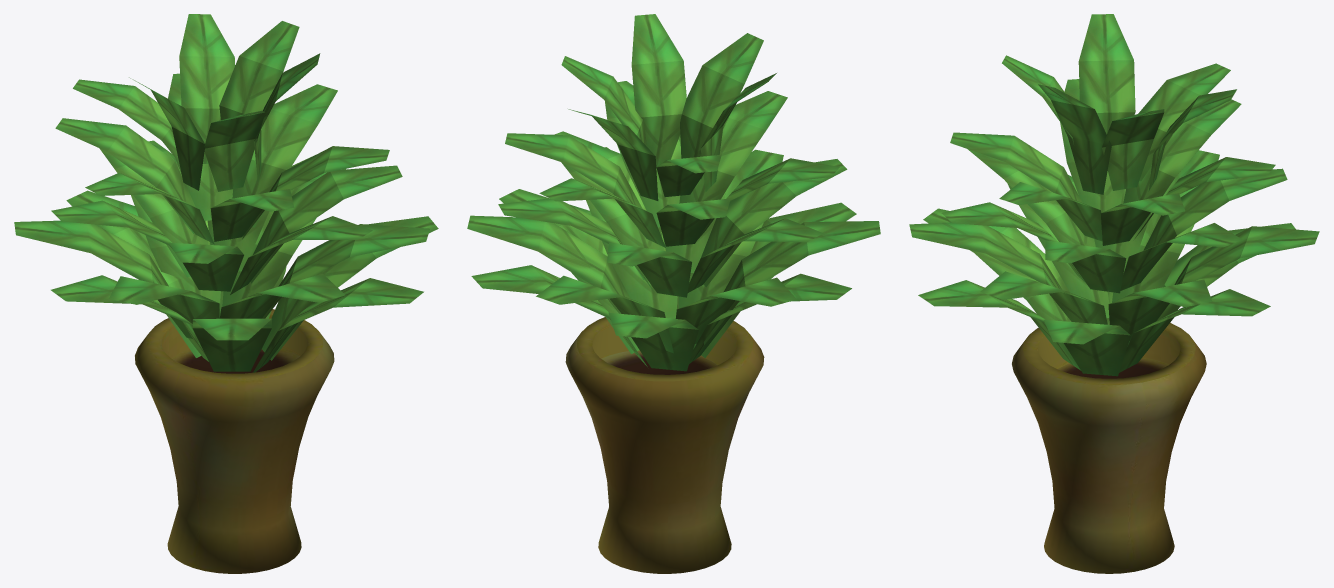
File: plants-min.glb
The picture shows the model from 3 angles, left to right: view 1: azimuth 30°, elevation 25°; view 2: azimuth 150°, elevation 25°; view 3: azimuth 270°, elevation 25°; orthographic projection. The views are drawn at different scales.
Parts seen in each view (by area): view 1: Cylinder.004, Plane.027, Plane.022, Plane.015, Plane.020, Plane.028, Plane.006, Plane.005, Plane.009, Plane.024, Plane.004, Plane.026 (+18 smaller); view 2: Cylinder.004, Plane.029, Plane.024, Plane.008, Plane.011, Plane.018, Plane.017, Plane.022, Plane.001, Plane.013, Plane.006, Plane.015 (+18 smaller); view 3: Cylinder.004, Plane.025, Plane.010, Plane.029, Plane.020, Plane.013, Plane.018, Plane.003, Plane.007, Plane.028, Plane.008, Plane.026 (+18 smaller).
Part boxes in pixels (x1=…): Cylinder.004: x1=135, y1=309, x2=334, y2=573; Plane.027: x1=179, y1=14, x2=235, y2=163; Plane.022: x1=232, y1=84, x2=337, y2=227; Plane.015: x1=250, y1=165, x2=402, y2=283; Plane.020: x1=55, y1=118, x2=195, y2=233; Plane.028: x1=219, y1=21, x2=299, y2=119; Plane.006: x1=14, y1=220, x2=168, y2=286; Plane.005: x1=192, y1=318, x2=272, y2=371; Plane.009: x1=262, y1=224, x2=429, y2=318; Plane.024: x1=204, y1=110, x2=265, y2=191; Plane.004: x1=253, y1=278, x2=423, y2=372; Plane.026: x1=73, y1=79, x2=201, y2=171; Cylinder.004: x1=565, y1=317, x2=764, y2=573; Plane.029: x1=631, y1=14, x2=686, y2=166; Plane.024: x1=680, y1=33, x2=763, y2=178; Plane.008: x1=467, y1=215, x2=630, y2=313; Plane.011: x1=704, y1=221, x2=880, y2=344; Plane.018: x1=679, y1=91, x2=787, y2=203; Plane.017: x1=701, y1=159, x2=847, y2=286; Plane.022: x1=505, y1=133, x2=642, y2=208; Plane.001: x1=608, y1=312, x2=698, y2=371; Plane.013: x1=607, y1=242, x2=691, y2=297; Plane.006: x1=675, y1=277, x2=796, y2=343; Plane.015: x1=554, y1=131, x2=664, y2=279; Cylinder.004: x1=1012, y1=322, x2=1206, y2=573; Plane.025: x1=1078, y1=14, x2=1135, y2=134; Plane.010: x1=909, y1=222, x2=1062, y2=289; Plane.029: x1=1038, y1=84, x2=1111, y2=194; Plane.020: x1=1123, y1=99, x2=1241, y2=229; Plane.013: x1=1143, y1=168, x2=1287, y2=250; Plane.018: x1=950, y1=132, x2=1082, y2=202; Plane.003: x1=1044, y1=319, x2=1130, y2=376; Plane.007: x1=1174, y1=226, x2=1319, y2=284; Plane.028: x1=1102, y1=109, x2=1164, y2=190; Plane.008: x1=1108, y1=279, x2=1212, y2=340; Plane.026: x1=1138, y1=63, x2=1230, y2=181.
Bounding box in the file's own units: 1.92 × 2.54 × 1.94.
Materials: 2 (2 with a texture image).
